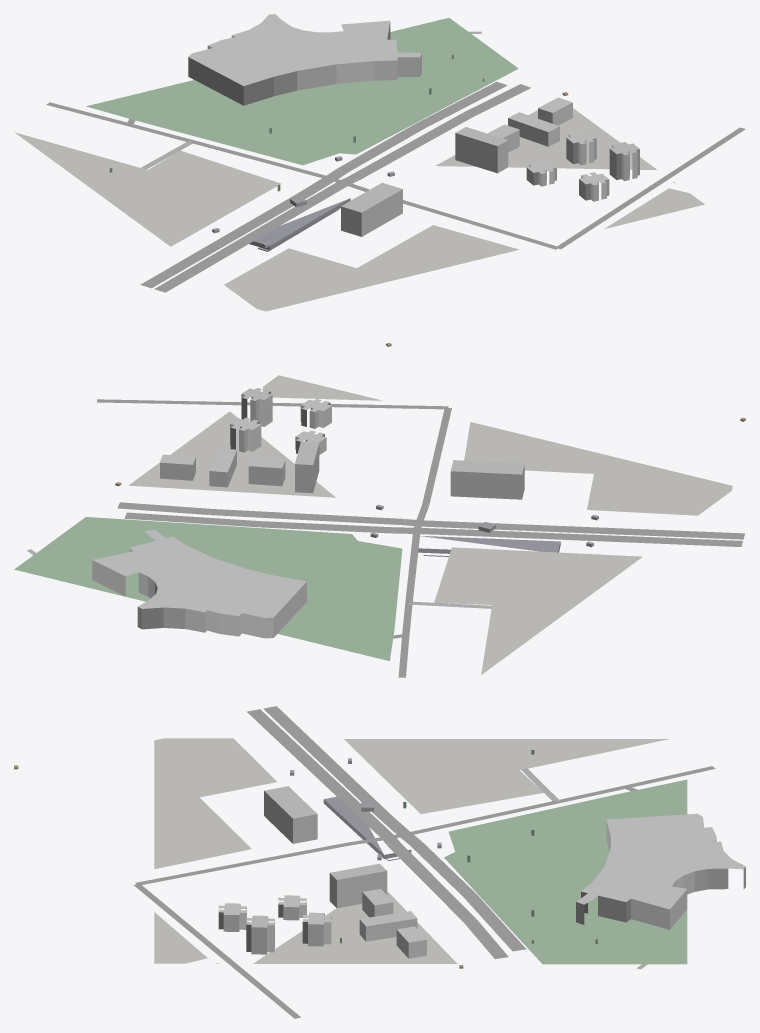
3 renders of one model, top to bottom at view 1: azimuth 30°, elevation 25°; view 2: azimuth 150°, elevation 25°; view 3: azimuth 270°, elevation 25°, orthographic. The views are drawn at different scales.
Size of the model in its own units: 693 by 56.45 by 687.
